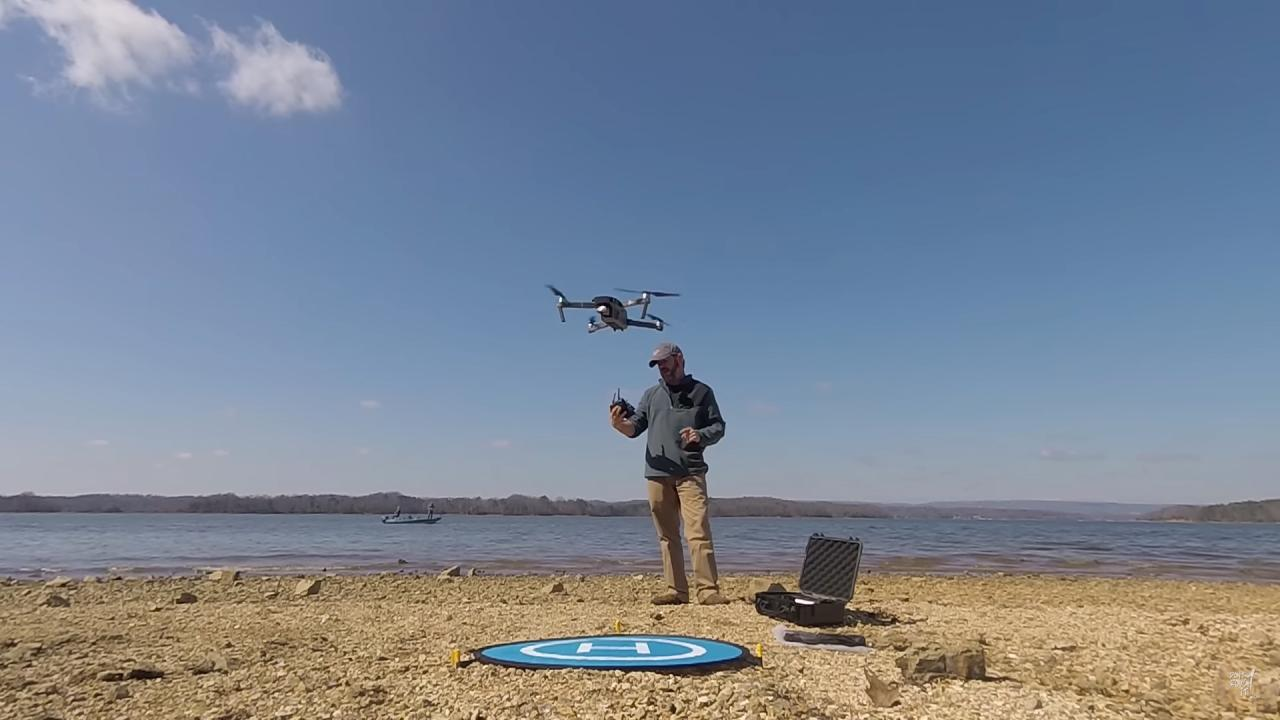Drone: (538, 272, 690, 345)
